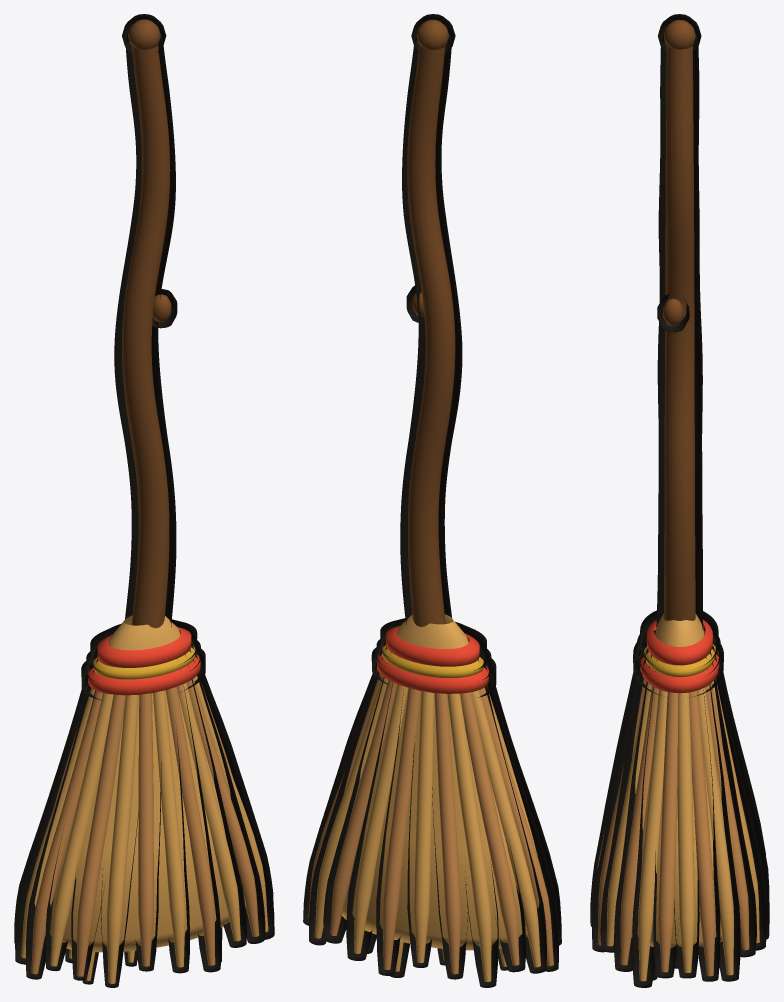
The model's file is broom.glb.
3 renders of one model, left to right at view 1: azimuth 30°, elevation 25°; view 2: azimuth 150°, elevation 25°; view 3: azimuth 270°, elevation 25°, orthographic.
Parts seen in each view (by area): view 1: Broom, Broom_outline; view 2: Broom, Broom_outline; view 3: Broom, Broom_outline.
Boxes of the visible parts, bbox=[...] form: Broom: bbox=[21, 19, 268, 983]; Broom_outline: bbox=[14, 14, 274, 987]; Broom: bbox=[308, 19, 553, 981]; Broom_outline: bbox=[303, 14, 561, 987]; Broom: bbox=[597, 19, 759, 981]; Broom_outline: bbox=[590, 14, 769, 987].
Size of the model in its own units: 1.27 by 4.75 by 0.8249.
